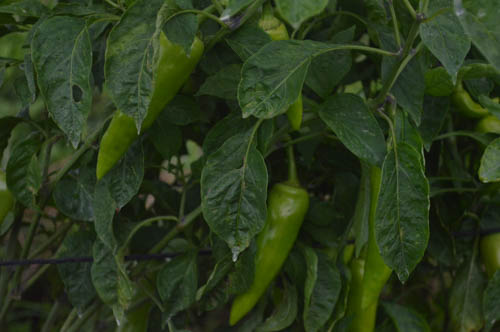ChiliPepper: (95, 29, 205, 183), (227, 186, 306, 324), (358, 154, 400, 312), (259, 29, 307, 130), (343, 252, 385, 327)
